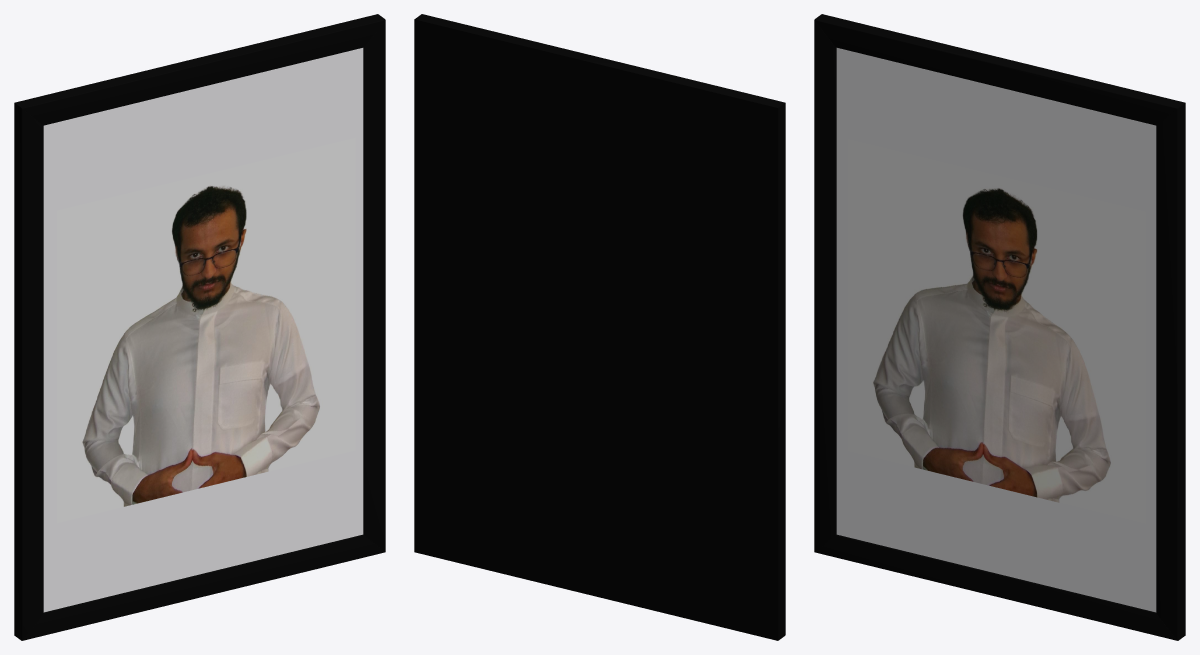
Rendered from NaserSign.fbx.
The picture shows the model from 3 angles, left to right: view 1: azimuth 30°, elevation 25°; view 2: azimuth 150°, elevation 25°; view 3: azimuth 330°, elevation 25°; orthographic projection.
Visible parts, largest first — view 1: Box046, zip_-_3; view 2: Box046; view 3: Box046, zip_-_3.
Part boxes in pixels (<box>): Box046: <box>14,14,385,640</box>; zip_-_3: <box>57,138,355,522</box>; Box046: <box>414,14,785,640</box>; Box046: <box>814,14,1185,640</box>; zip_-_3: <box>847,138,1146,523</box>.
Bounding box in the file's own units: 692 × 969 × 27.46.
Materials: 5 (1 with a texture image).
